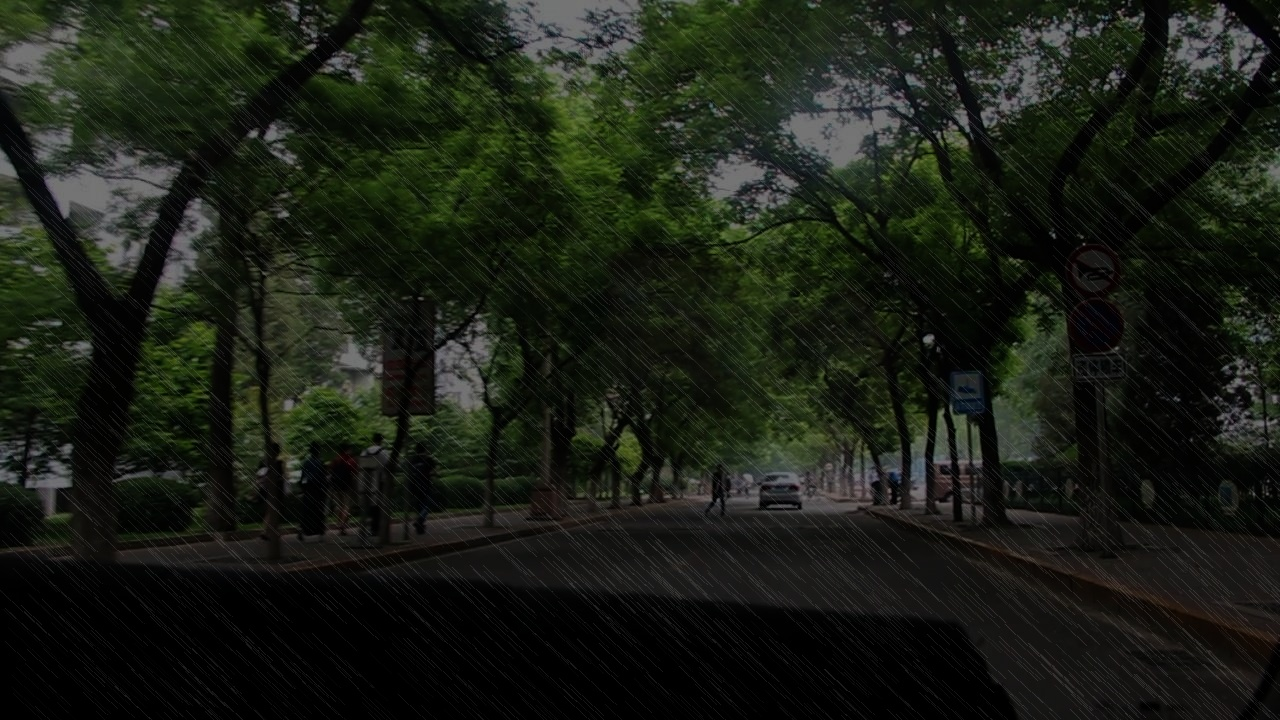Prohibitory Signs: (1062, 239, 1123, 300), (1066, 299, 1127, 353)
